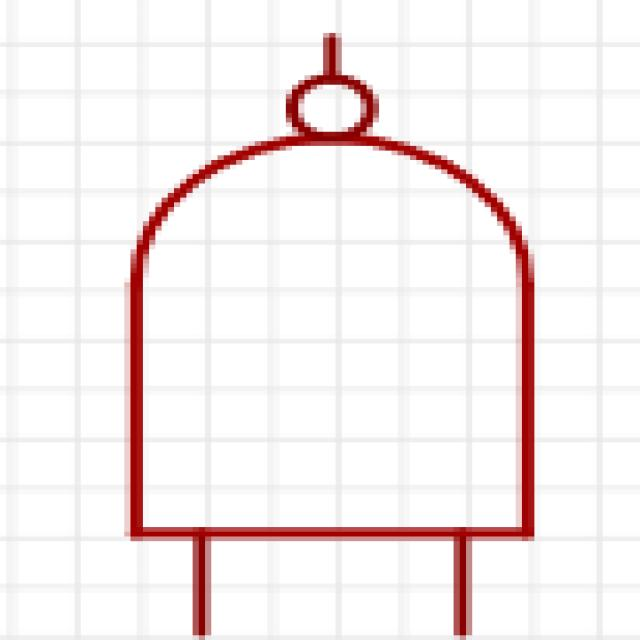nand: (87, 13, 592, 632)
